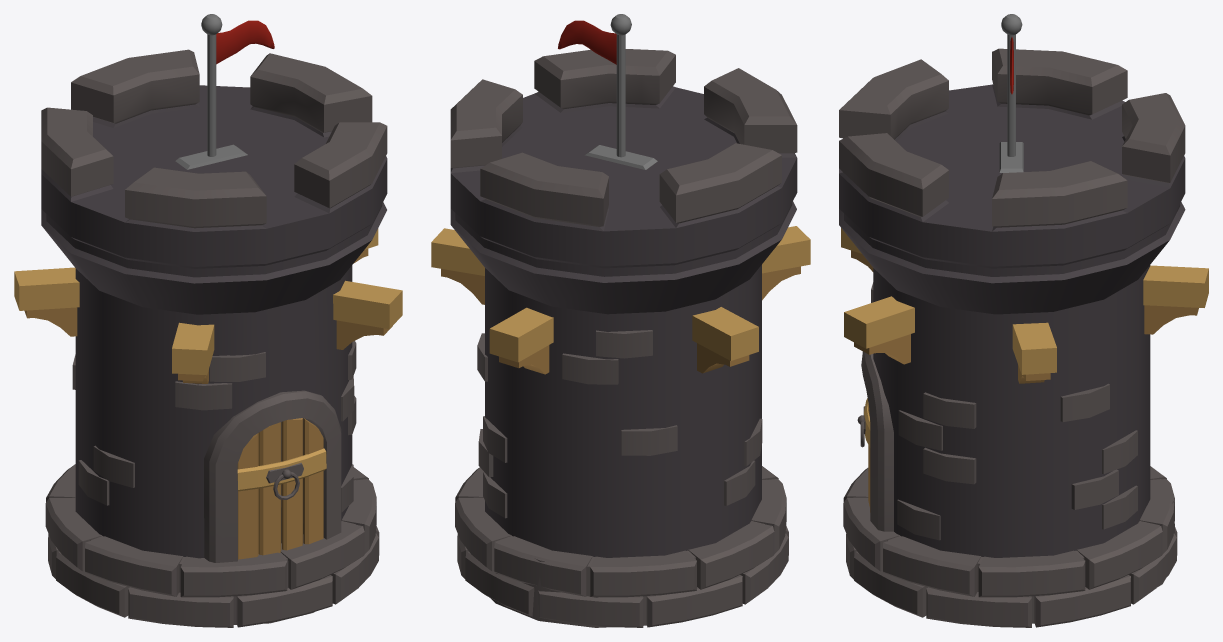
The model's file is Tower.fbx.
3 renders of one model, left to right at view 1: azimuth 30°, elevation 25°; view 2: azimuth 150°, elevation 25°; view 3: azimuth 270°, elevation 25°, orthographic.
Parts seen in each view (by area): view 1: Tower, Tower_Door; view 2: Tower; view 3: Tower, Tower_Door.
Part boxes in pixels (x1=…): Tower: x1=14, y1=14, x2=402, y2=627; Tower_Door: x1=237, y1=418, x2=326, y2=559; Tower: x1=431, y1=14, x2=810, y2=627; Tower: x1=839, y1=14, x2=1208, y2=627; Tower_Door: x1=857, y1=398, x2=870, y2=512.
Bounding box in the file's own units: 560 × 866 × 533.
